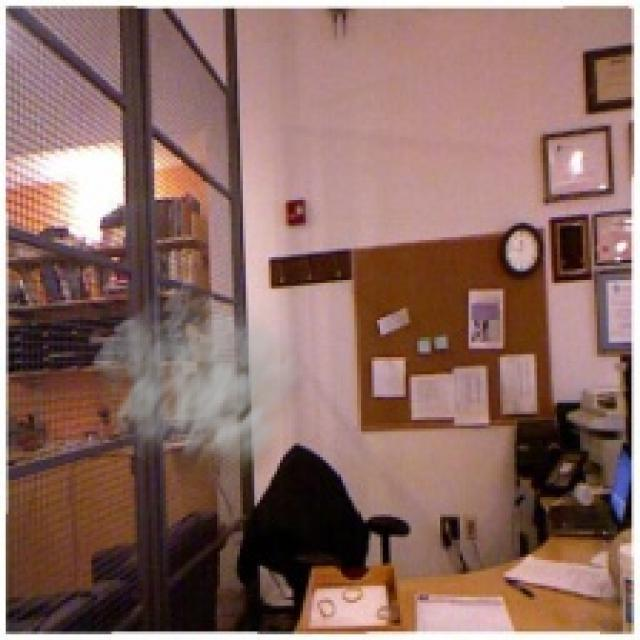Smoke: (80, 277, 314, 503)
